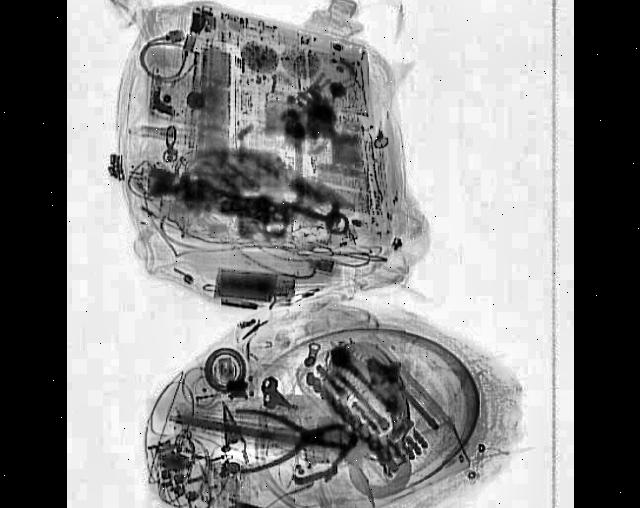Pliers: (235, 404, 351, 472)
